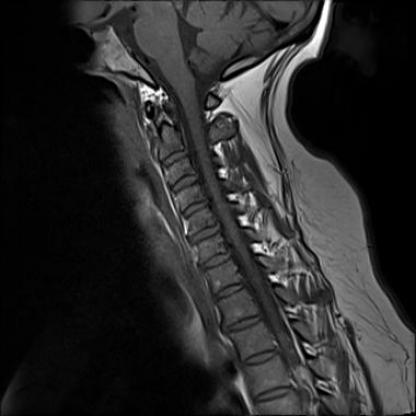Disc Herniationrotation: (186, 223, 225, 244)
Disc Protrusionrotation: (169, 174, 201, 193)
